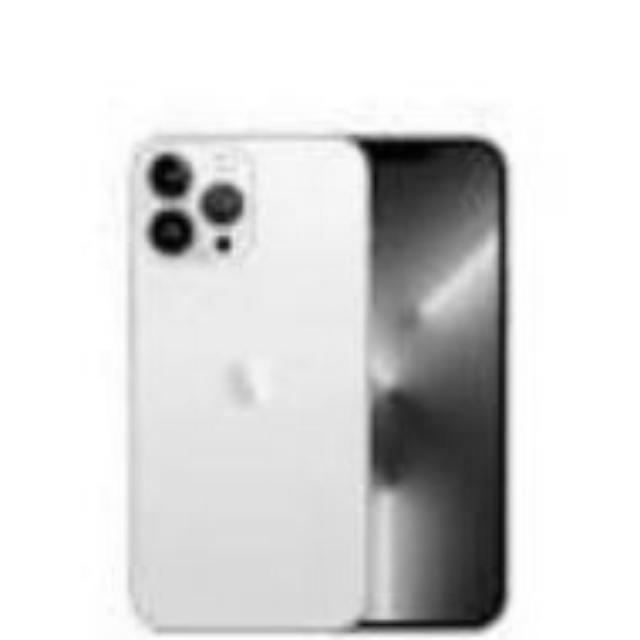fake: (122, 124, 386, 632)
